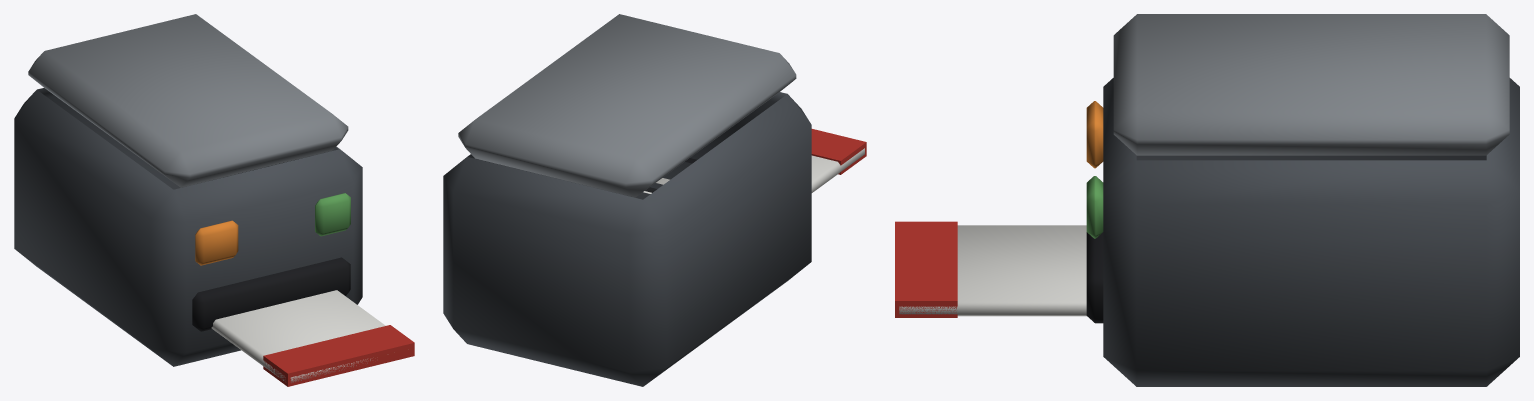
File: OrderPrinter_01.glb
3 renders of one model, left to right at view 1: azimuth 30°, elevation 25°; view 2: azimuth 150°, elevation 25°; view 3: azimuth 270°, elevation 25°, orthographic. The views are drawn at different scales.
Visible parts, largest first — view 1: SM_OrderPrinter_01; view 2: SM_OrderPrinter_01; view 3: SM_OrderPrinter_01.
Part boxes in pixels (box(x1,y1,x2,y2)): SM_OrderPrinter_01: box(14, 14, 414, 386); SM_OrderPrinter_01: box(443, 14, 866, 386); SM_OrderPrinter_01: box(895, 14, 1519, 386).
Bounding box in the file's own units: 0.15 × 0.145 × 0.3.
1 material, 1 textured.
